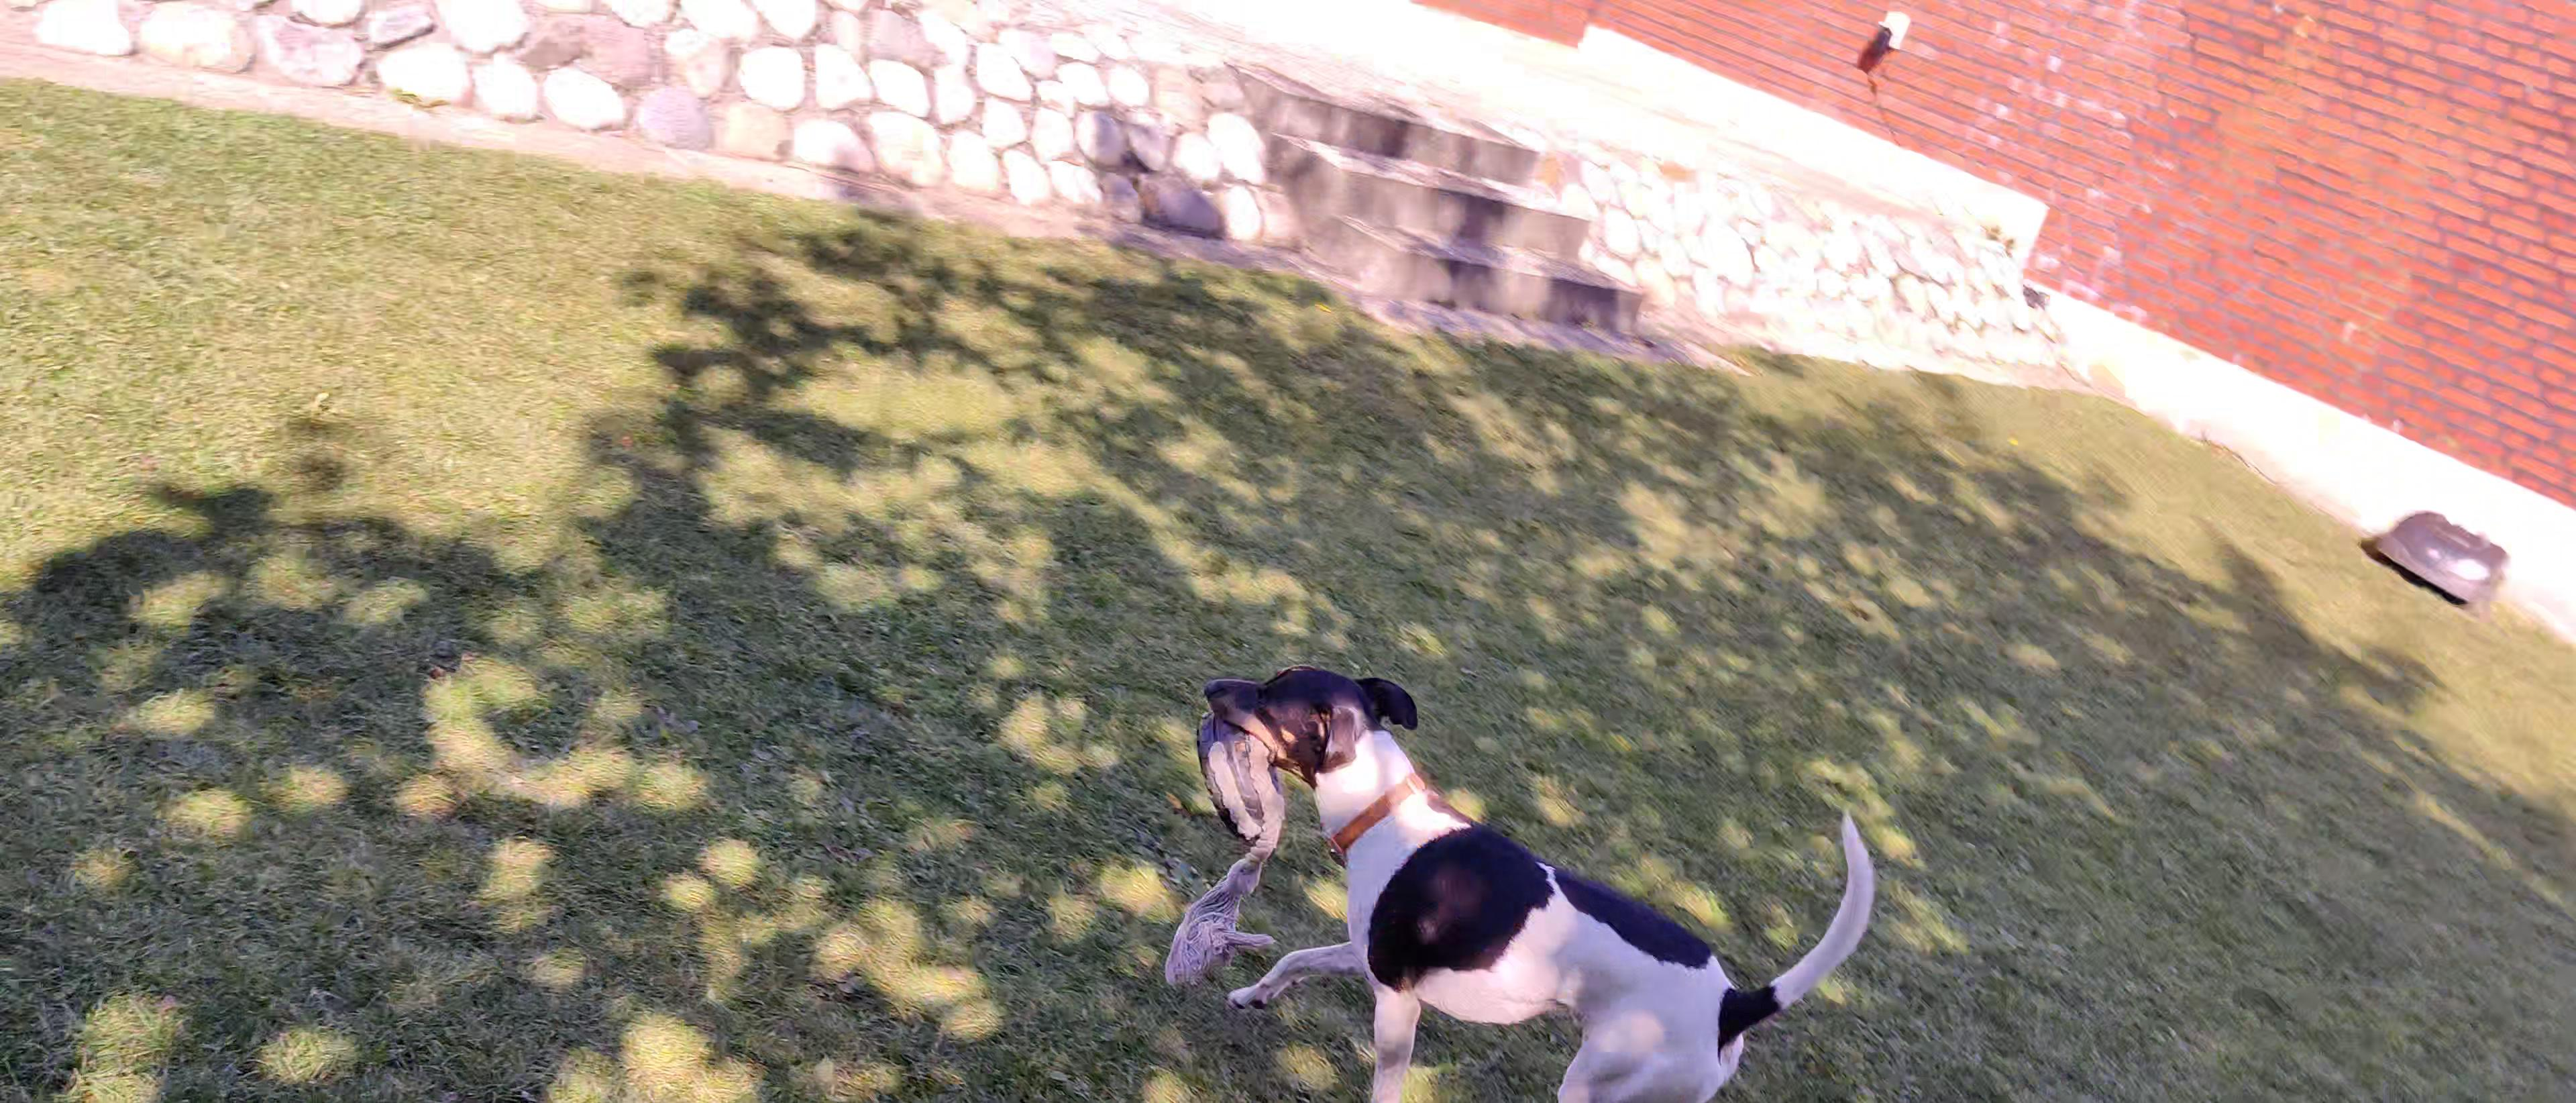Dog: (1189, 651, 1878, 1103)
